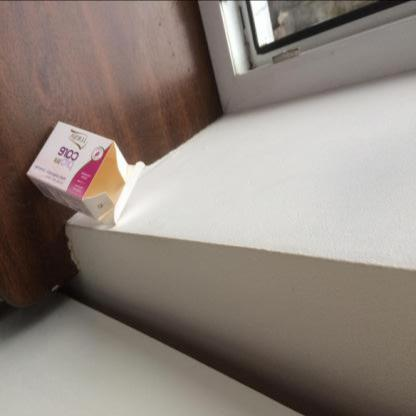Carton: (27, 121, 146, 224)
